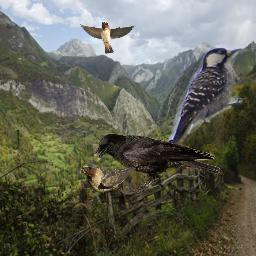Crow: (92, 133, 220, 195)
Swallow: (77, 21, 136, 54), (79, 163, 136, 194)
Woodpecker: (160, 41, 249, 156)
